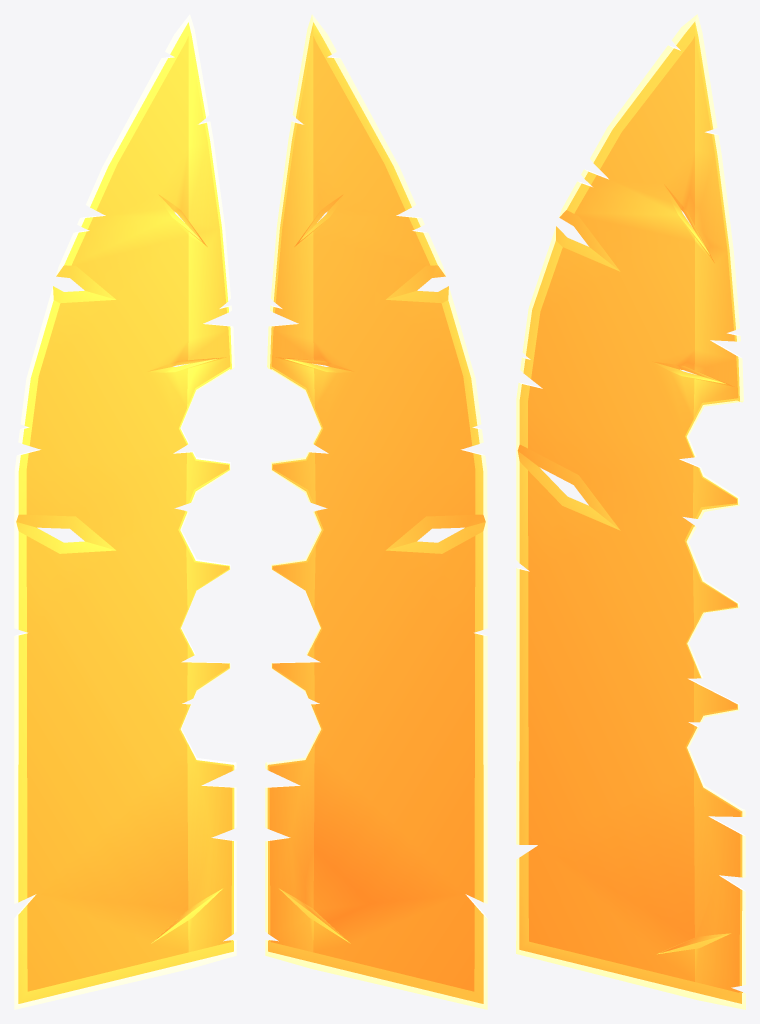
Rendered from gold_blade_scratched_062.glb.
3 renders of one model, left to right at view 1: azimuth 30°, elevation 25°; view 2: azimuth 150°, elevation 25°; view 3: azimuth 330°, elevation 25°, orthographic. The views are drawn at different scales.
Parts seen in each view (by area): view 1: gold_blade_scratched.062; view 2: gold_blade_scratched.062; view 3: gold_blade_scratched.062.
Part boxes in pixels (box(x1,y1,x2,y2)): gold_blade_scratched.062: box(14, 14, 236, 1009); gold_blade_scratched.062: box(265, 14, 487, 1009); gold_blade_scratched.062: box(516, 14, 745, 1009).
Size of the model in its own units: 2.79 by 11.43 by 0.0204.
Materials: 1 (1 with a texture image).
